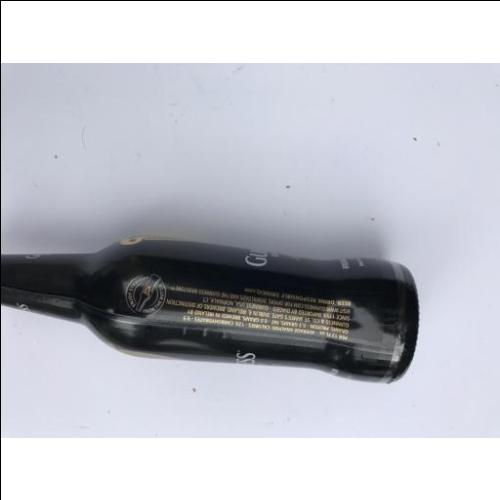glass: (0, 235, 419, 385)
